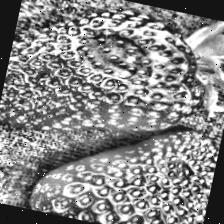Anthracnose Fruit Rot: (67, 24, 157, 88), (148, 150, 199, 188)
